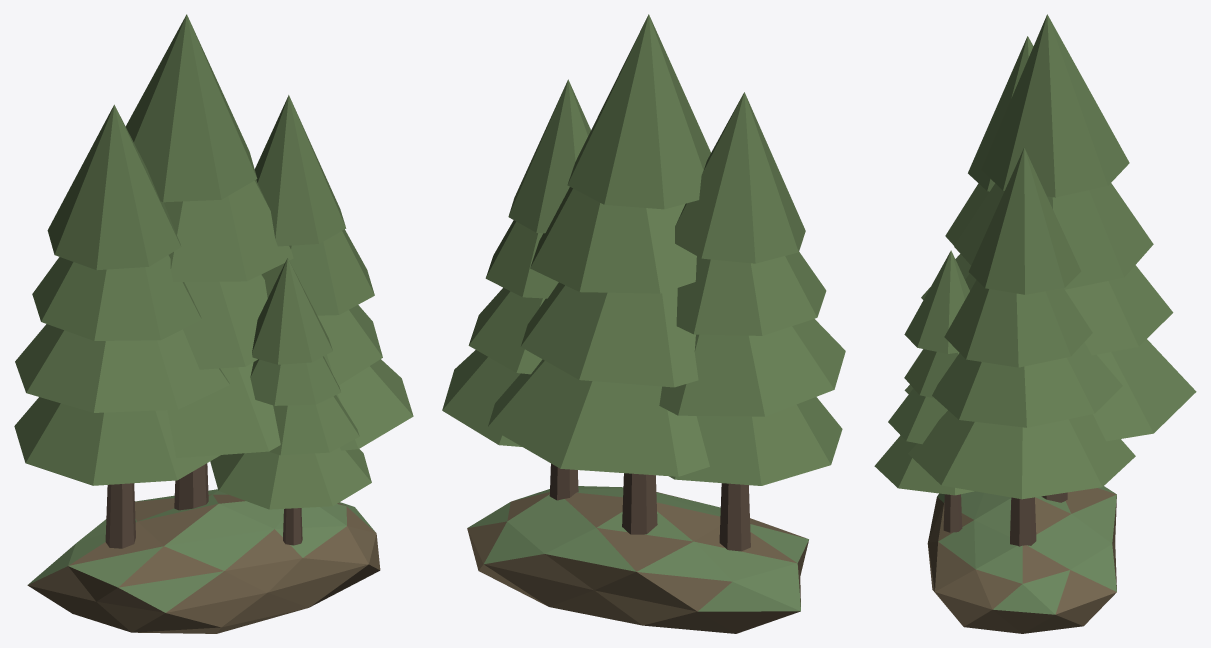
The model's file is edge_treeline_pine.glb.
3 renders of one model, left to right at view 1: azimuth 30°, elevation 25°; view 2: azimuth 150°, elevation 25°; view 3: azimuth 270°, elevation 25°, orthographic. The views are drawn at different scales.
Visible parts, largest first — view 1: edge_treeline_pine; view 2: edge_treeline_pine; view 3: edge_treeline_pine.
Boxes of the visible parts, box(x1,y1,x2,y2) form: edge_treeline_pine: box(14, 14, 413, 633); edge_treeline_pine: box(442, 14, 845, 633); edge_treeline_pine: box(874, 14, 1196, 633).
Bounding box in the file's own units: 5.93 × 8.95 × 4.6.
